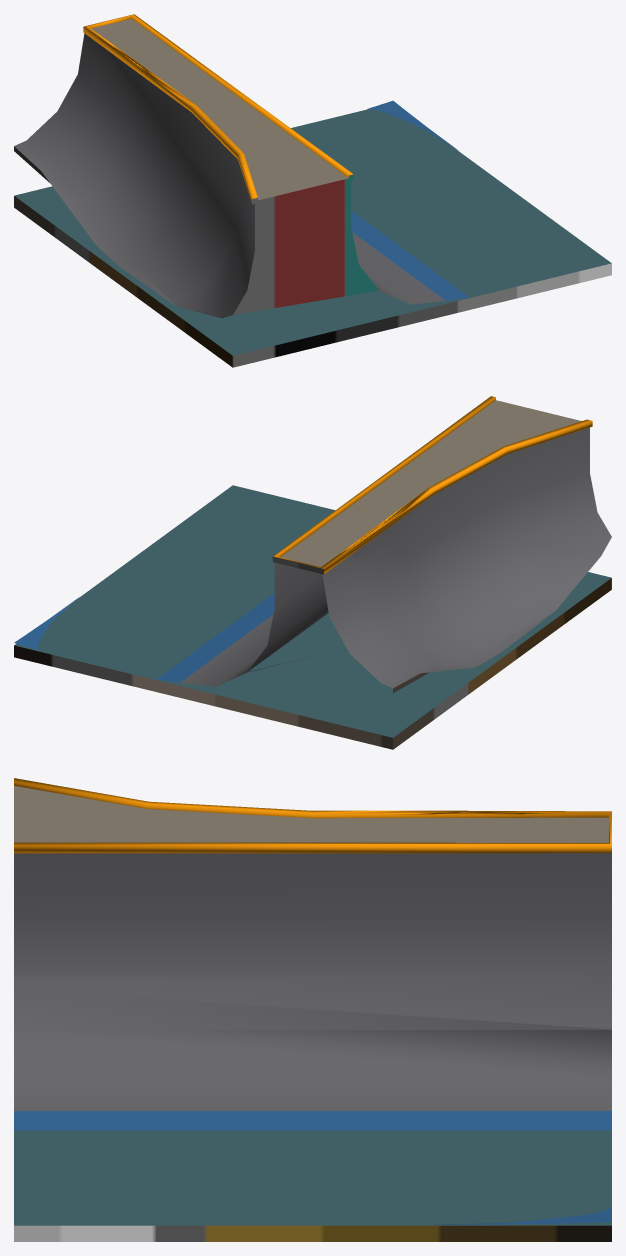
File: tile_10_0_7.gltf
The picture shows the model from 3 angles, top to bottom: view 1: azimuth 30°, elevation 25°; view 2: azimuth 150°, elevation 25°; view 3: azimuth 270°, elevation 25°; orthographic projection. The views are drawn at different scales.
Parts seen in each view (by area): view 1: pipe.main, ground, pipe.main.rim; view 2: pipe.main, ground, pipe.main.rim; view 3: pipe.main, ground, pipe.main.rim.
Boxes of the visible parts, left/top/right/bottom form: pipe.main: left=14, top=19, right=469, bottom=318; ground: left=14, top=109, right=611, bottom=367; pipe.main.rim: left=83, top=14, right=353, bottom=204; pipe.main: left=14, top=400, right=611, bottom=692; ground: left=14, top=485, right=611, bottom=749; pipe.main.rim: left=272, top=396, right=592, bottom=574; pipe.main: left=14, top=785, right=611, bottom=1224; ground: left=14, top=1130, right=611, bottom=1241; pipe.main.rim: left=14, top=778, right=611, bottom=853.
Size of what is drawn, in the model's own units: 8 by 3.31 by 8.
1 material, 1 textured.
